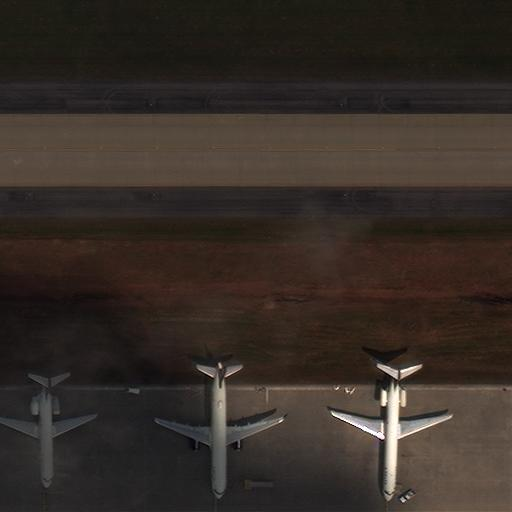Medium Civil Transport: (154, 359, 283, 503), (332, 366, 454, 504), (0, 373, 97, 492)
